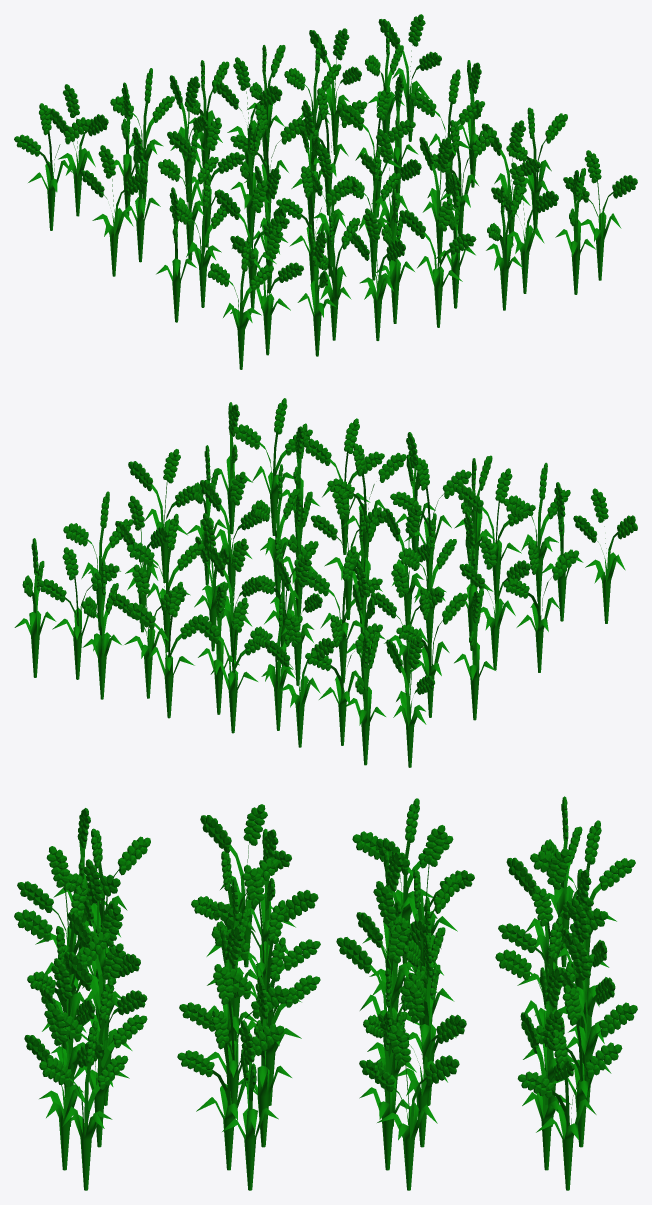
Rendered from wheat-stage2.glb.
3 views of the same model, one above another, from view 1: azimuth 30°, elevation 25°; view 2: azimuth 150°, elevation 25°; view 3: azimuth 270°, elevation 25° (orthographic). The views are drawn at different scales.
Parts seen in each view (by area): view 1: Wheat_F2.001; view 2: Wheat_F2.001; view 3: Wheat_F2.001.
Boxes of the visible parts, left/top/right/bottom form: Wheat_F2.001: left=14, top=14, right=637, bottom=369; Wheat_F2.001: left=14, top=398, right=637, bottom=767; Wheat_F2.001: left=14, top=796, right=637, bottom=1190.
Bounding box in the file's own units: 2.12 × 0.6163 × 2.12.
1 material, 1 textured.
